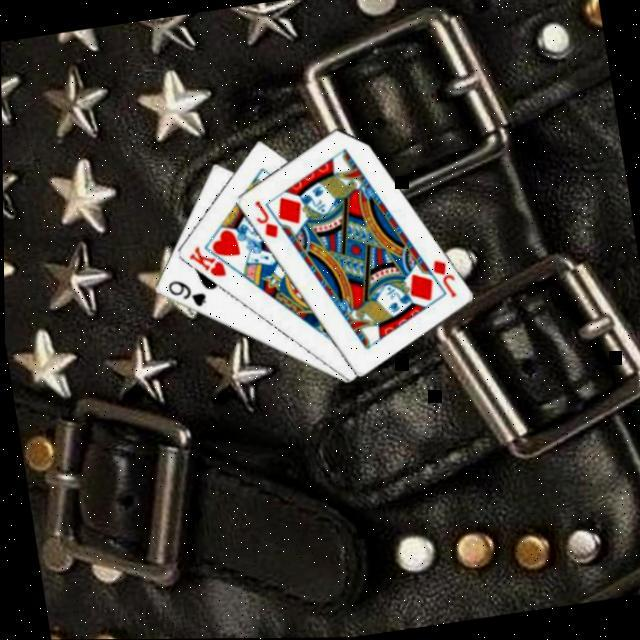9S: (162, 273, 208, 313)
JD: (425, 254, 459, 303), (248, 195, 281, 242)
KH: (182, 239, 228, 284)
